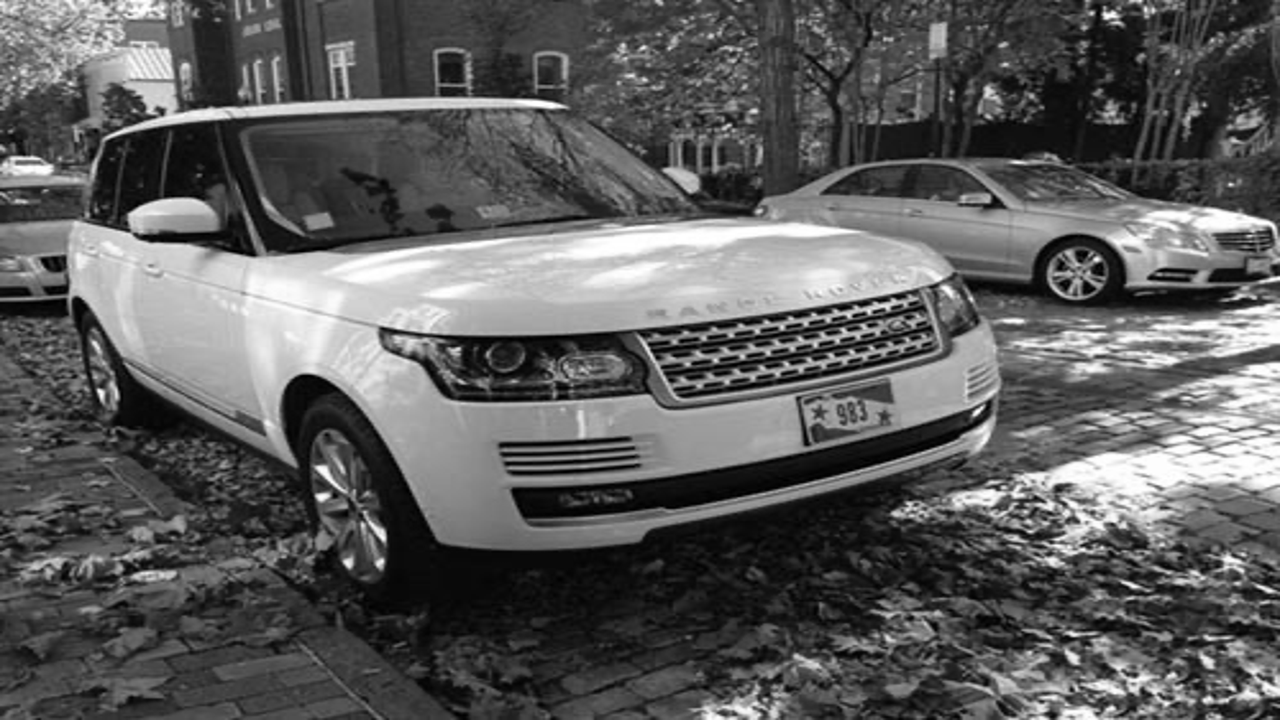license: (795, 374, 904, 455)
